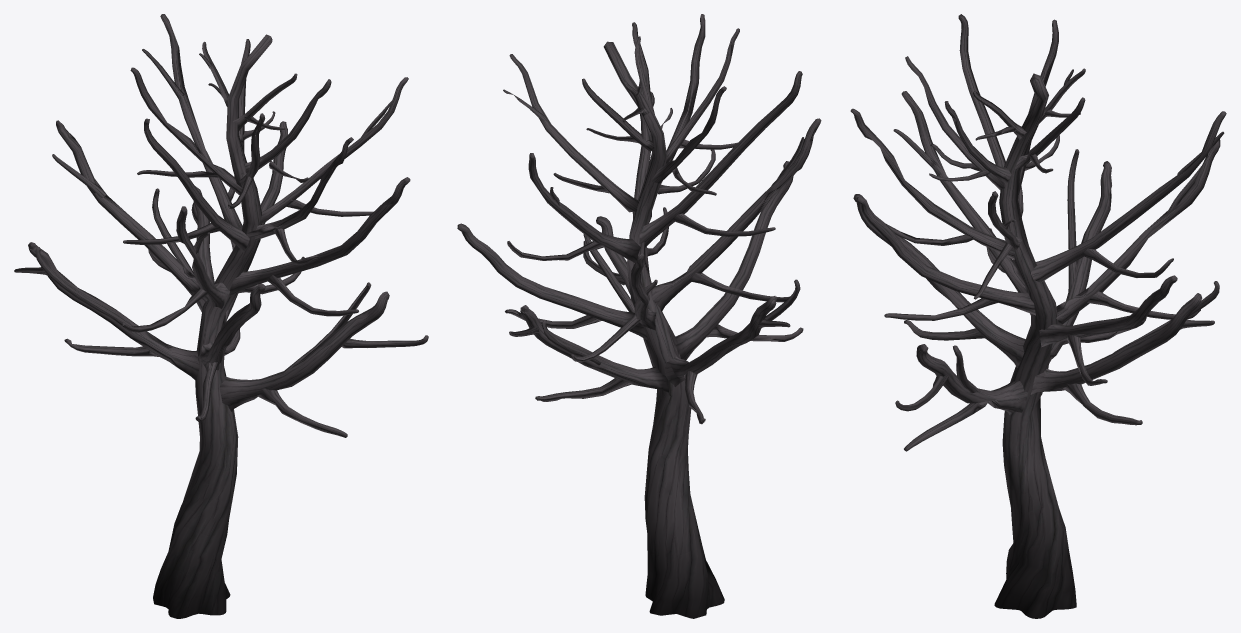
The model's file is tree-dead-1.glb.
3 views of the same model, side by side, from view 1: azimuth 30°, elevation 25°; view 2: azimuth 150°, elevation 25°; view 3: azimuth 270°, elevation 25° (orthographic). The views are drawn at different scales.
Parts seen in each view (by area): view 1: DeadTree_1; view 2: DeadTree_1; view 3: DeadTree_1.
Boxes of the visible parts, <box> form: DeadTree_1: <box>14,14,428,618</box>; DeadTree_1: <box>457,14,821,618</box>; DeadTree_1: <box>850,14,1226,618</box>.
Bounding box in the file's own units: 6.15 × 9.5 × 5.75.
Materials: 1 (1 with a texture image).
